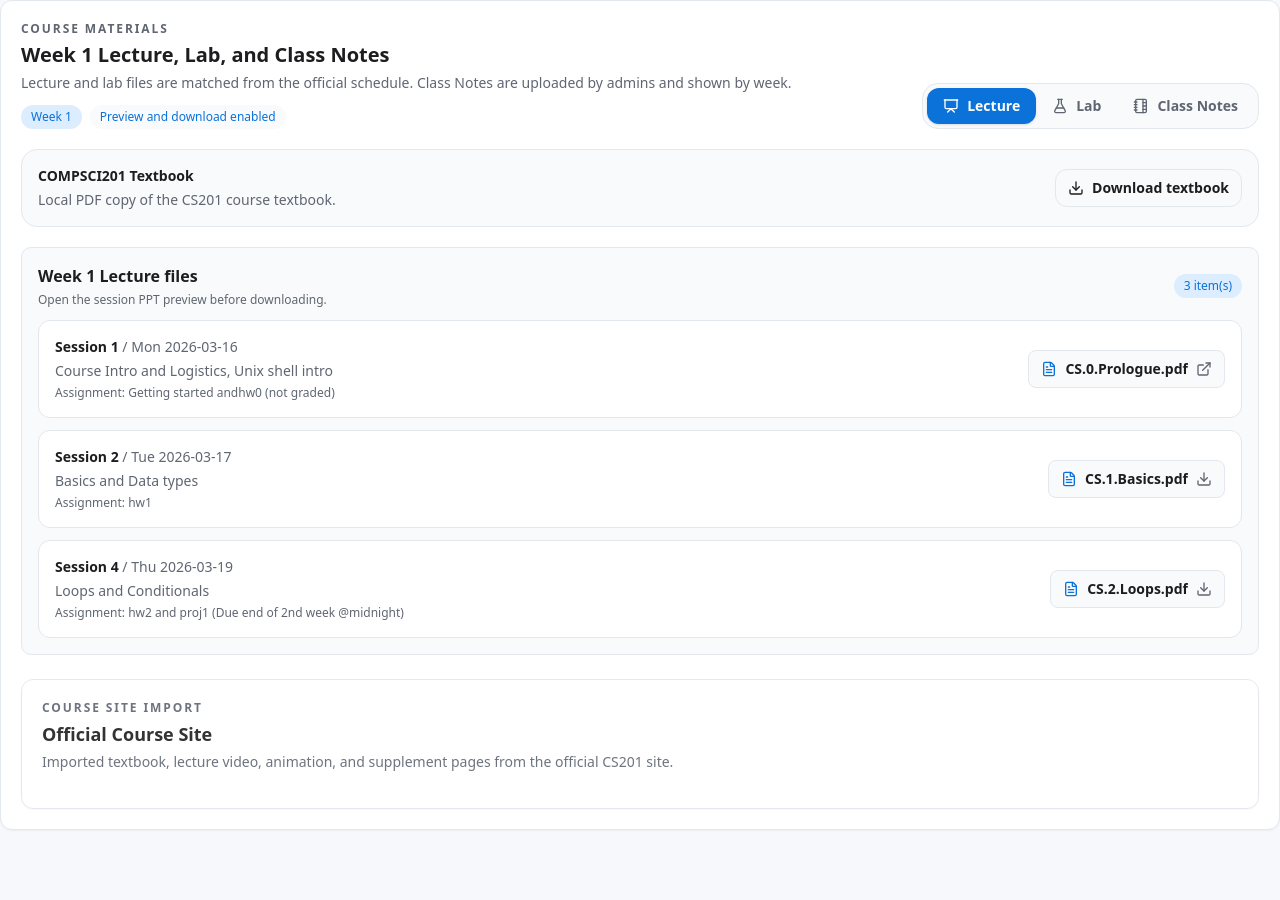
Test: ResourcesBoard › switches to lab materials and renders answer subitems
Click the button "Lab" at (1077, 106), box x1=1036 y1=88 x2=1117 y2=124
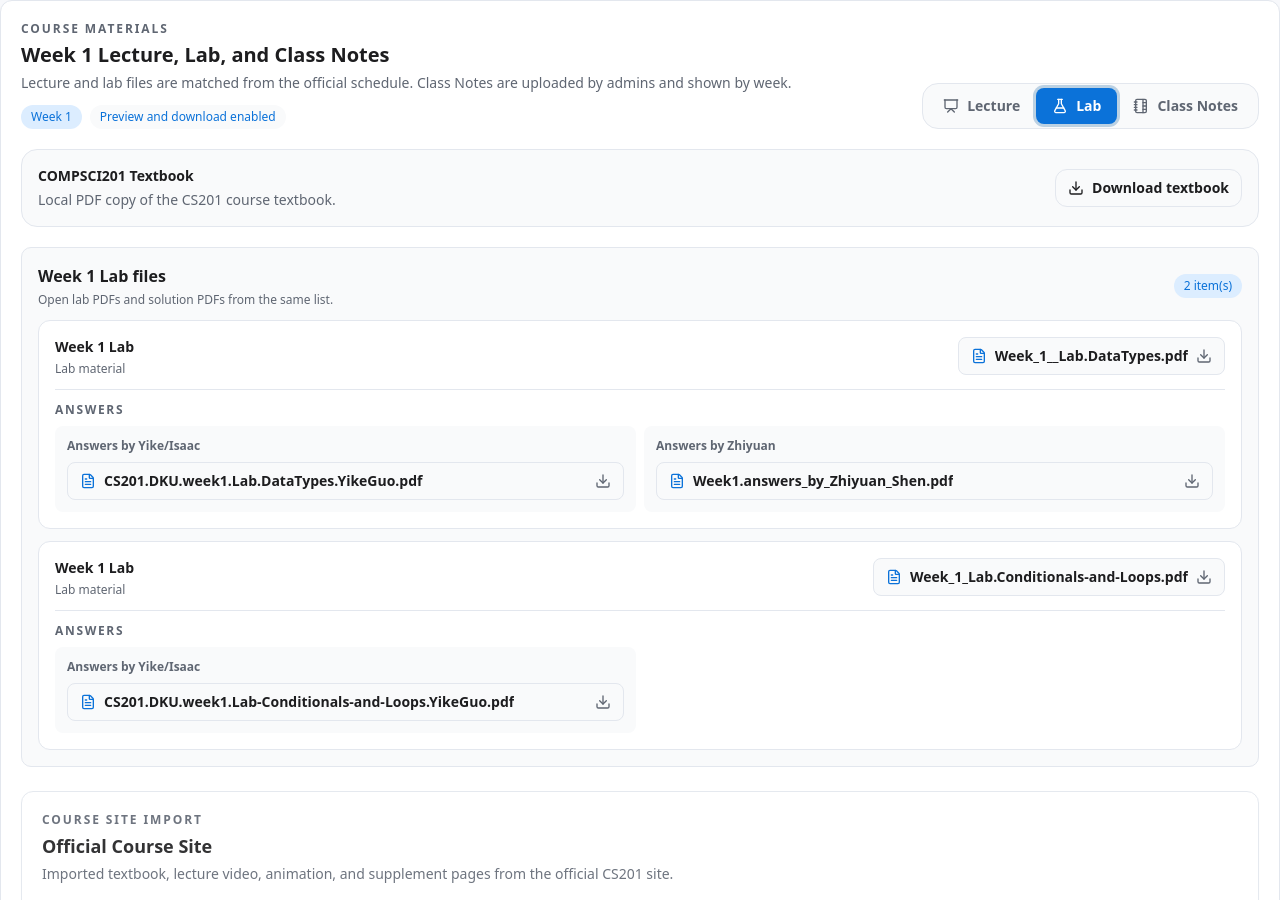
Expected: the link "Week_1__Lab.DataTypes.pdf" is shown, x1=958 y1=337 x2=1225 y2=375
Expected: the text "Answers by Yike/Isaac" next to "Answers by Zhiyuan" is shown, x1=67 y1=437 x2=200 y2=454
Expected: the link "CS201.DKU.week1.Lab.DataTypes.YikeGuo.pdf" is shown, x1=67 y1=462 x2=624 y2=500
